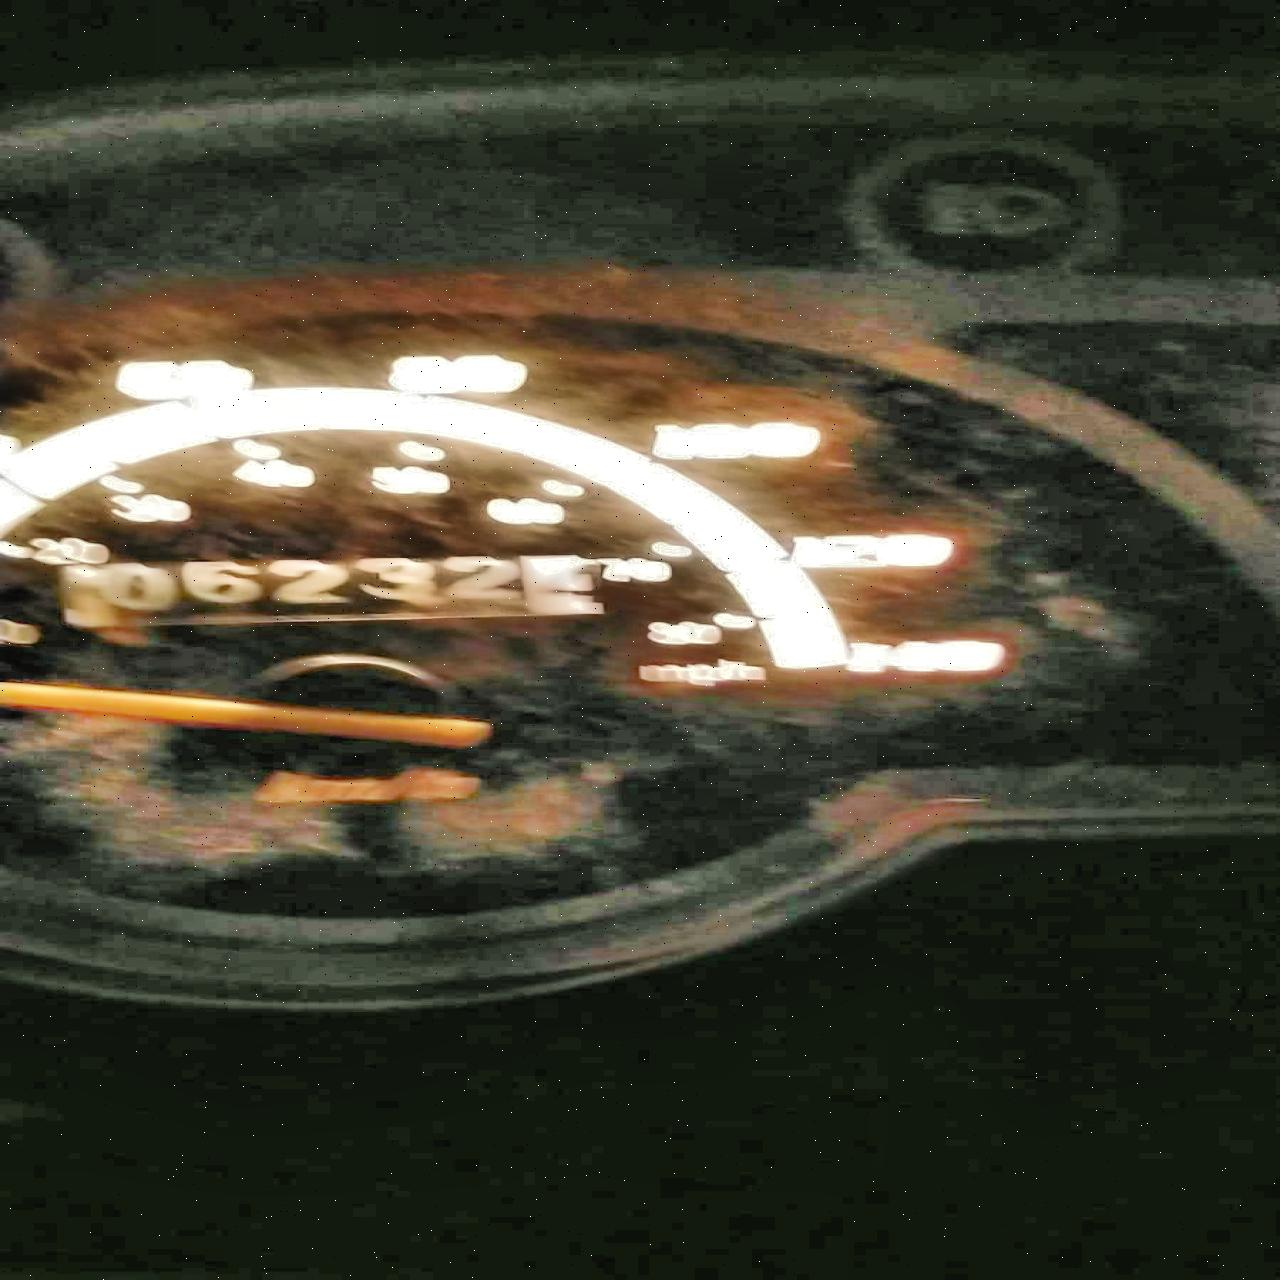0: (94, 559, 172, 617)
2: (267, 557, 352, 607), (441, 552, 520, 605)
3: (353, 552, 436, 606)
4: (536, 561, 606, 615)
6: (178, 557, 267, 608)
odometer: (66, 547, 615, 635)
